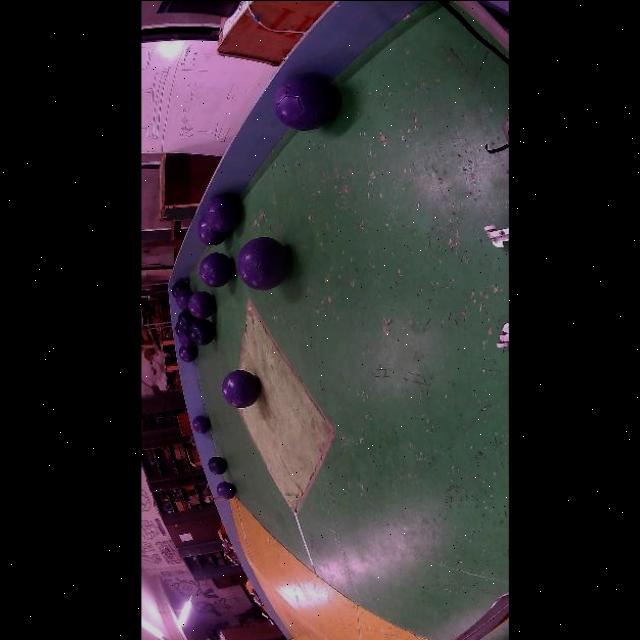B: (190, 318, 215, 344), (208, 455, 227, 474), (178, 310, 196, 330), (190, 416, 208, 434)
P: (274, 76, 337, 129), (237, 237, 291, 289), (222, 368, 260, 407), (204, 195, 241, 232), (199, 252, 233, 287), (198, 216, 230, 244), (189, 290, 215, 318), (176, 288, 194, 310), (217, 481, 236, 499), (178, 345, 198, 362), (178, 330, 195, 347)
